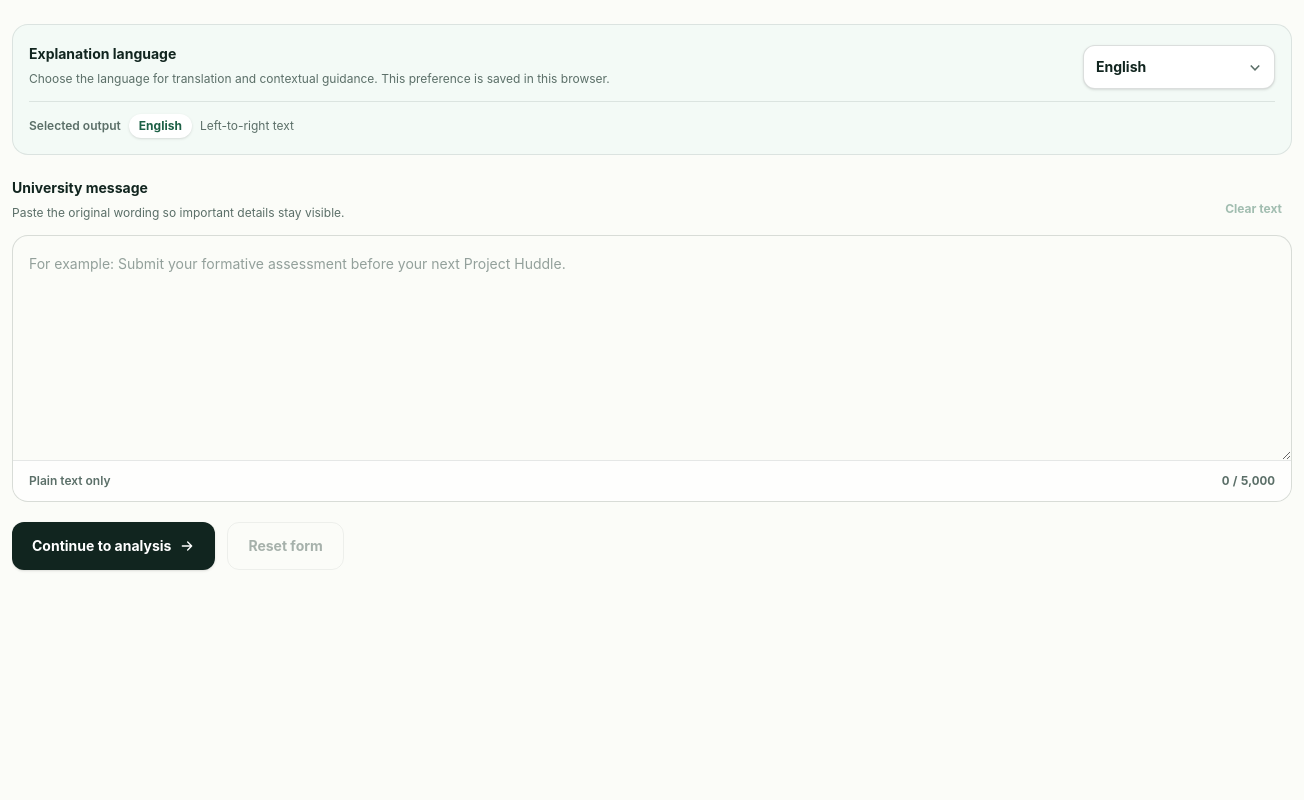
Test: MessageInputForm › submits the selected language and preserves it when the form resets
The width and height of the screenshot is (1304, 800).
Select "Urdu — اردو" in the dropdown labelled "Explanation language" at (1179, 67), box 1083,45 -> 1275,89
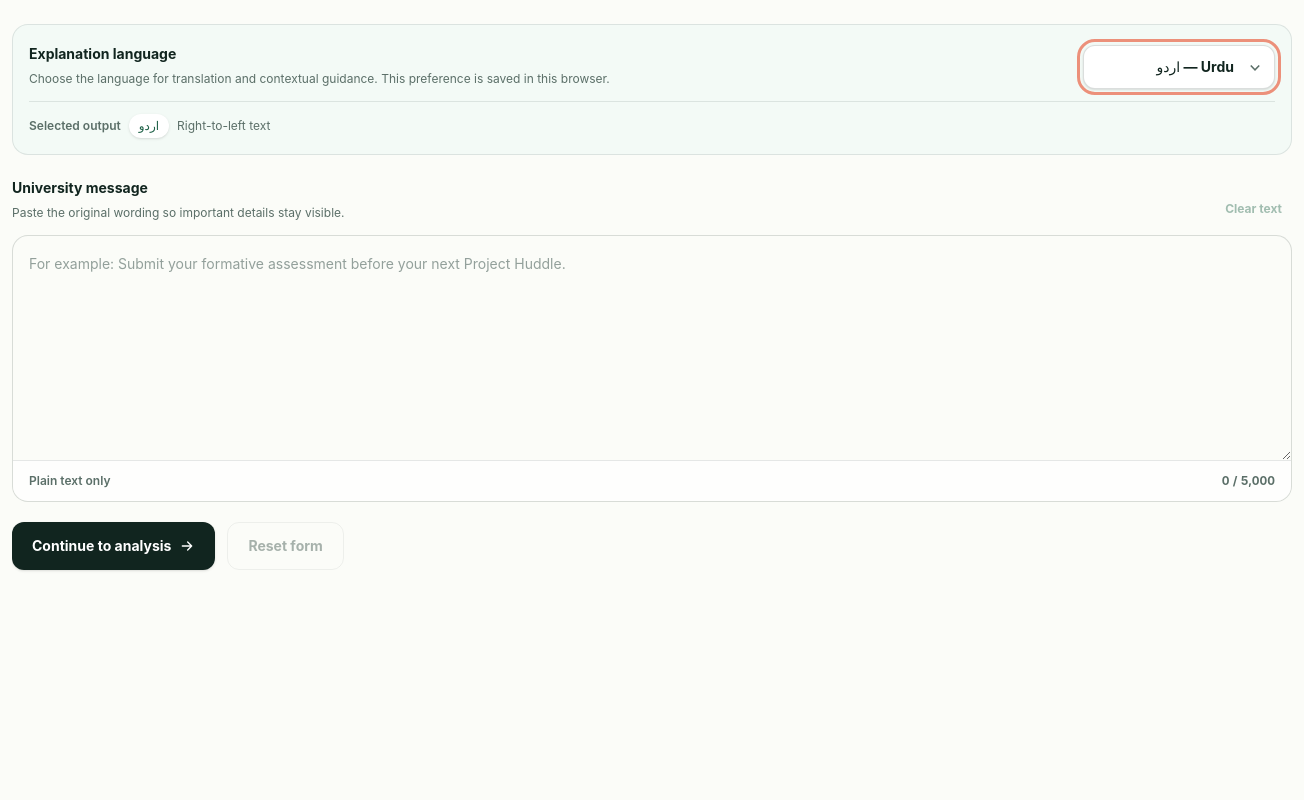
Type "Submit the assessment before Friday." into the text box labelled "University message" at (652, 348), box 13,236 -> 1291,460
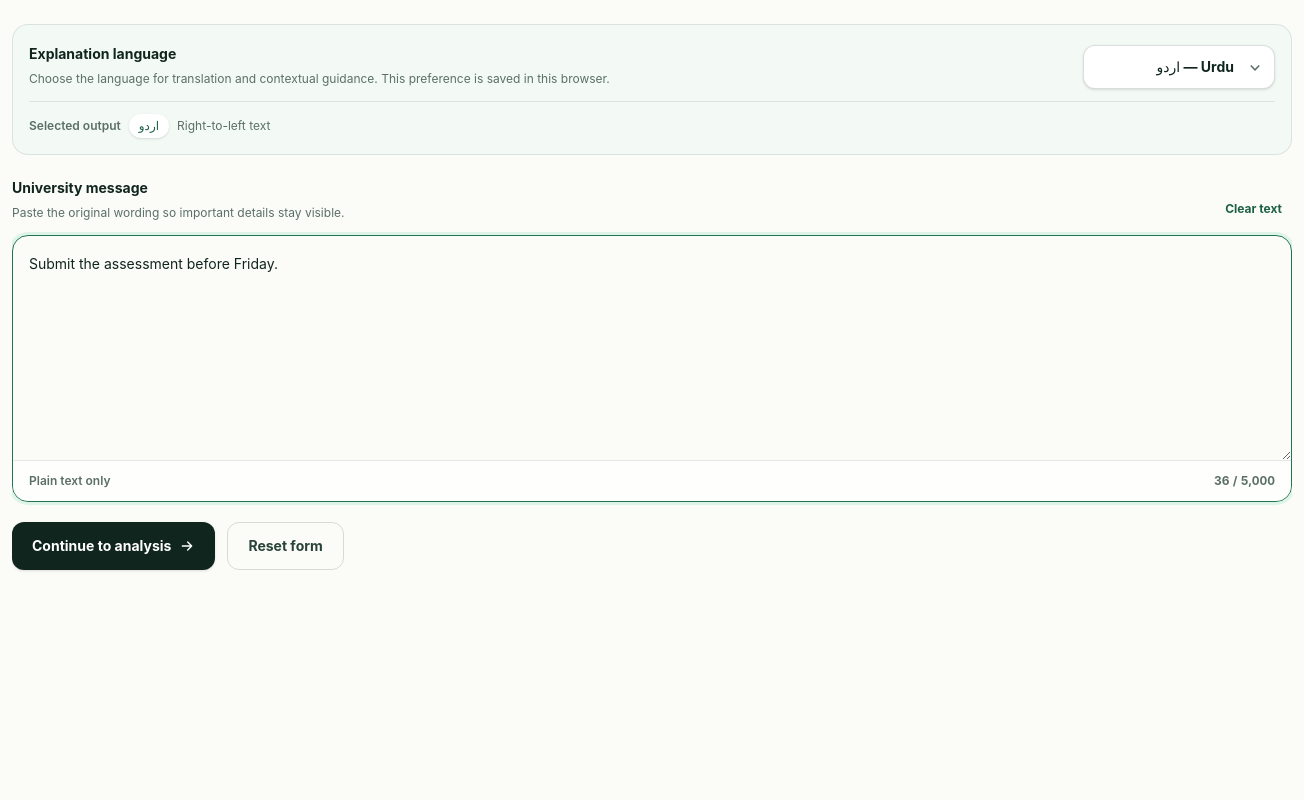
Click the button "Continue to analysis" at (114, 546), box 12,522 -> 215,570
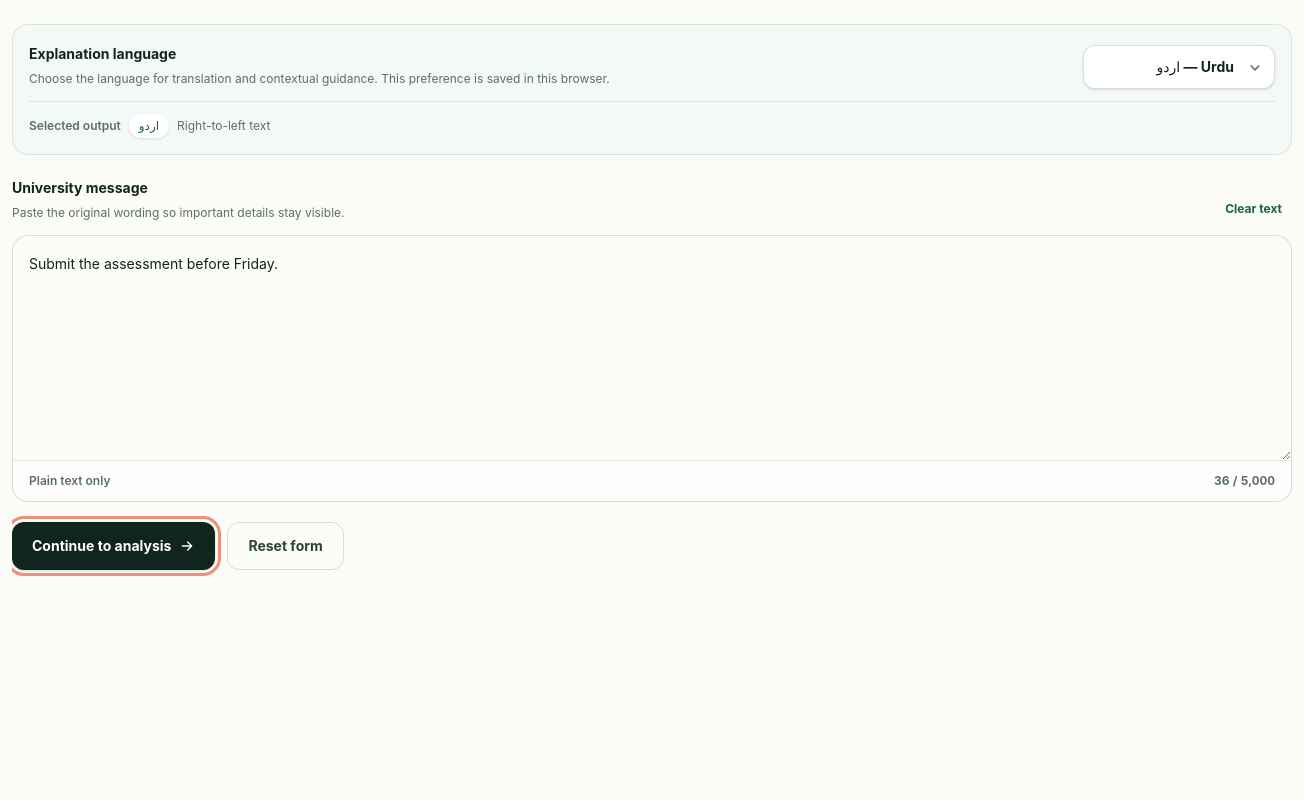
Click the button "Reset form" at (286, 546), box 227,522 -> 344,570
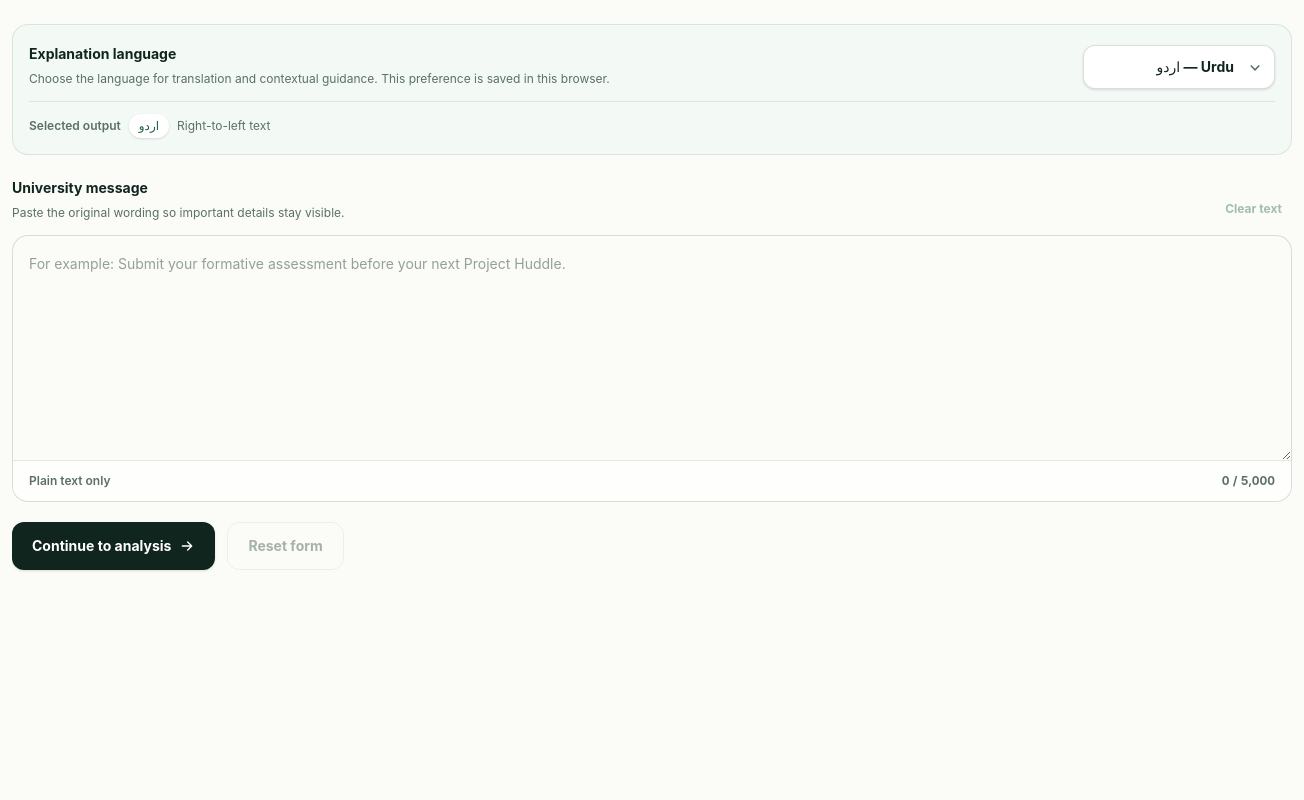
Check: the text box labelled "University message" is empty, box 13,236 -> 1291,460
